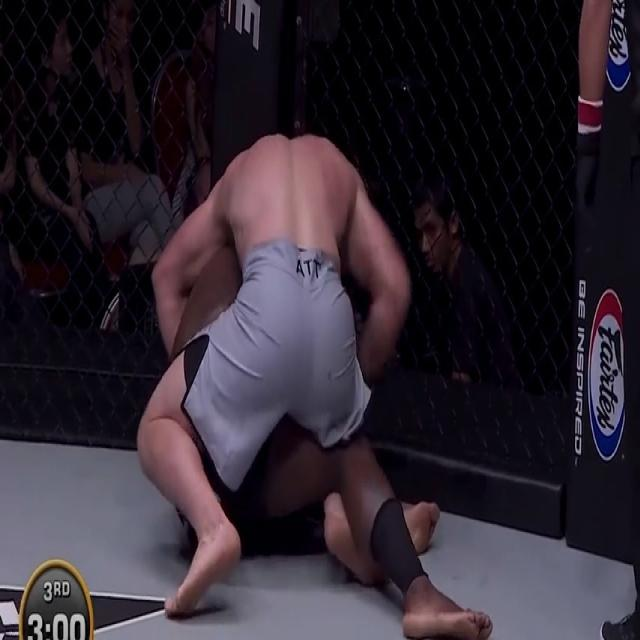fight: (134, 132, 493, 639)
